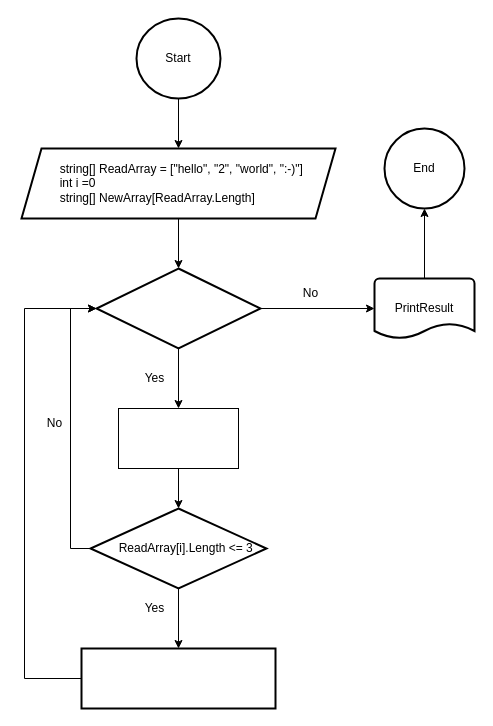
Image size: 493x726. Some labels were removed from this diagram. Each missing label, with the centre of its shape:
i<ReadArray.Length: point (178, 308)
int count = 0: point (178, 438)
NewArray[count] = ReadArray[i] count = count + 1: point (178, 678)
